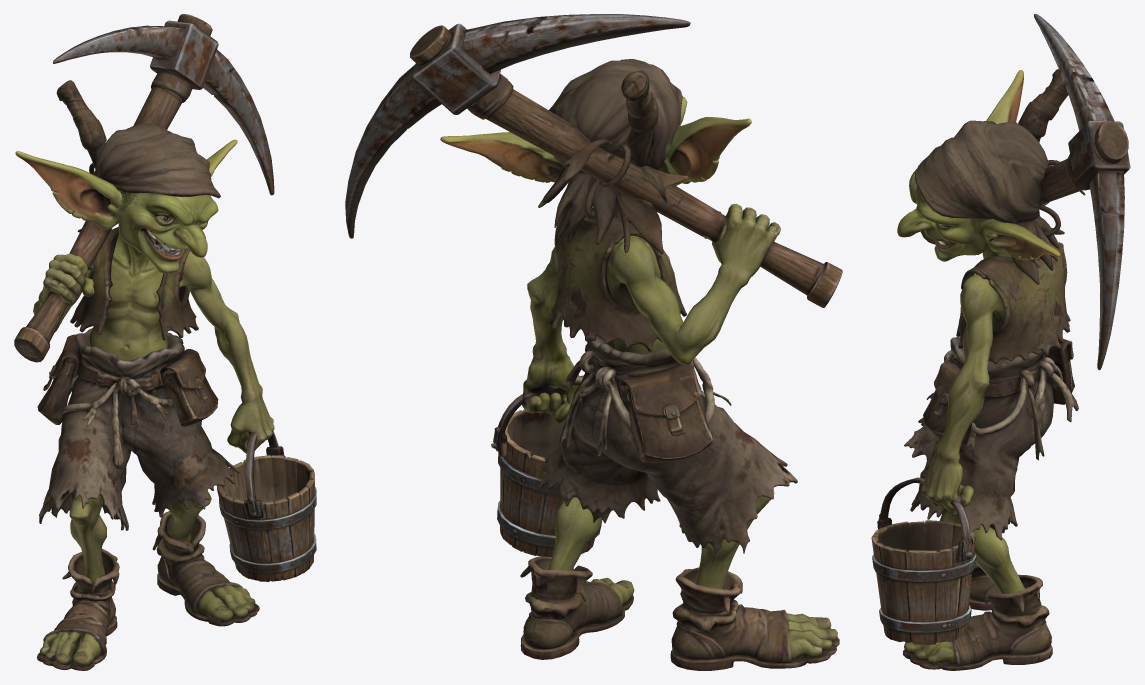
Rendered from goblin.glb.
3 views of the same model, side by side, from view 1: azimuth 30°, elevation 25°; view 2: azimuth 150°, elevation 25°; view 3: azimuth 270°, elevation 25° (orthographic). The views are drawn at different scales.
Parts seen in each view (by area): view 1: tripo_node_39398389; view 2: tripo_node_39398389; view 3: tripo_node_39398389.
Boxes of the visible parts, x1,y1,x2,y2 form: tripo_node_39398389: (14, 14, 316, 670); tripo_node_39398389: (345, 14, 842, 670); tripo_node_39398389: (871, 14, 1130, 670).
Size of the model in its own units: 1.26 by 2 by 0.808.
Materials: 1 (1 with a texture image).
